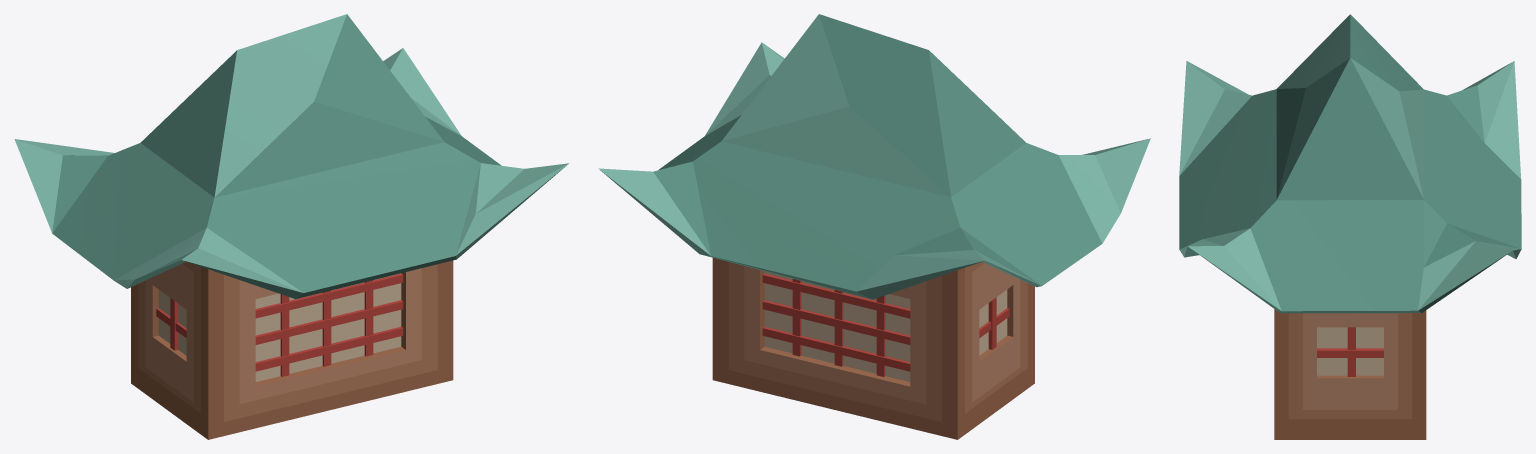
File: building_4.fbx
3 renders of one model, left to right at view 1: azimuth 30°, elevation 25°; view 2: azimuth 150°, elevation 25°; view 3: azimuth 270°, elevation 25°, orthographic.
Visible parts, largest first — view 1: building_4; view 2: building_4; view 3: building_4.
Boxes of the visible parts, x1,y1,x2,y2 form: building_4: [14, 14, 568, 439]; building_4: [598, 14, 1150, 439]; building_4: [1179, 14, 1521, 439].
Bounding box in the file's own units: 696 × 577 × 513.
